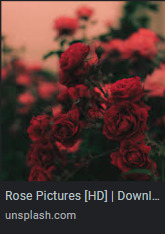RedRose: (111, 140, 157, 179), (102, 105, 153, 139), (52, 46, 98, 82), (54, 116, 86, 149), (108, 79, 145, 103), (132, 30, 158, 58), (50, 15, 78, 38), (27, 138, 50, 162), (23, 168, 55, 181), (31, 114, 54, 132), (66, 86, 90, 102), (79, 8, 97, 21), (15, 75, 32, 88), (87, 107, 97, 125), (18, 94, 35, 104), (58, 87, 67, 101)
